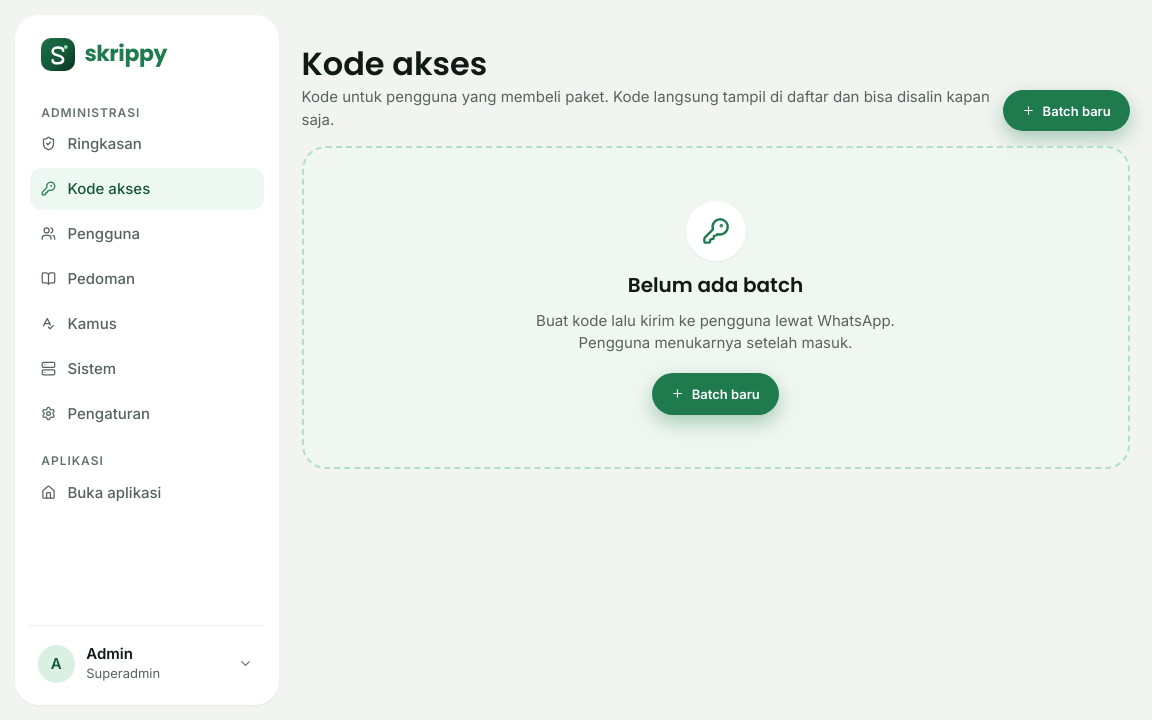
Test: halaman daftar batch › kosong: ajakan membuat batch pertama; tombol Batch baru membuka formulir
Expected: the heading "Belum ada batch" is shown, [628, 272, 803, 298]
Click the 1st button "Batch baru": x=1066, y=111 [1003, 90, 1130, 131]
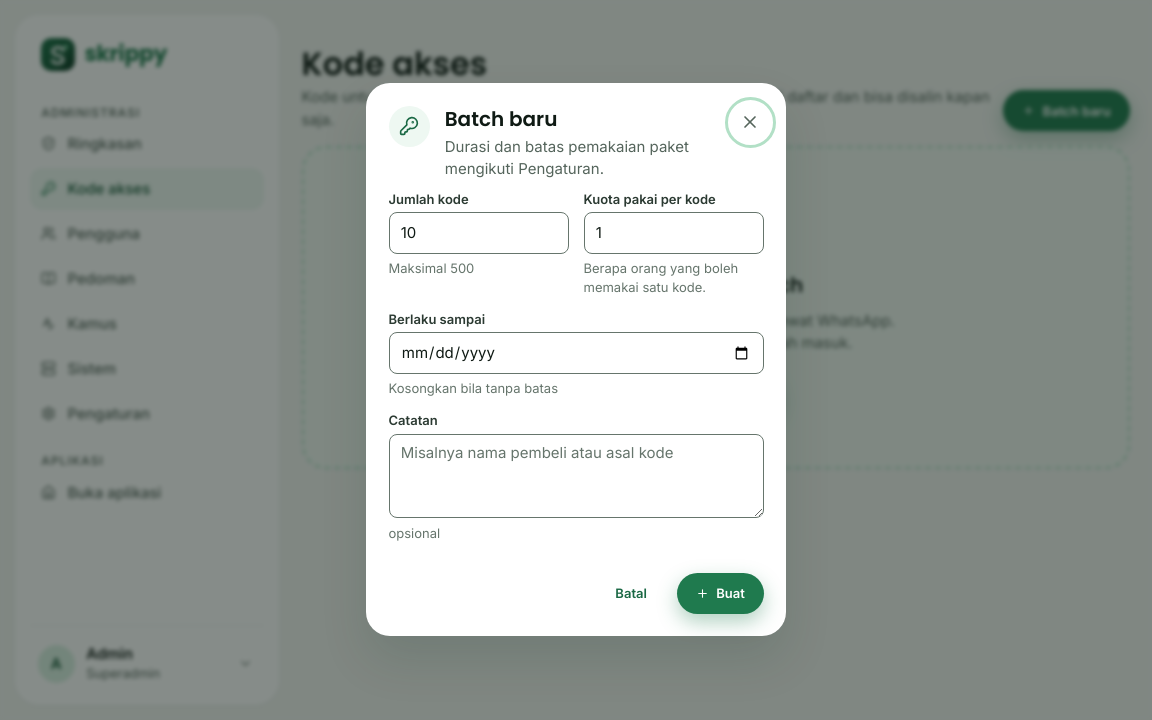
Expected: the field labelled "Jumlah kode" holds "10", [388, 213, 568, 254]
Expected: the field labelled "Kuota pakai per kode" holds "1", [584, 213, 764, 254]
